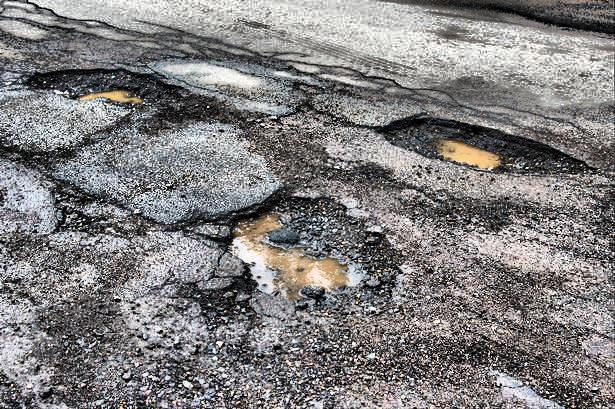pothole: (209, 188, 405, 314), (378, 106, 596, 182), (26, 65, 185, 115)
